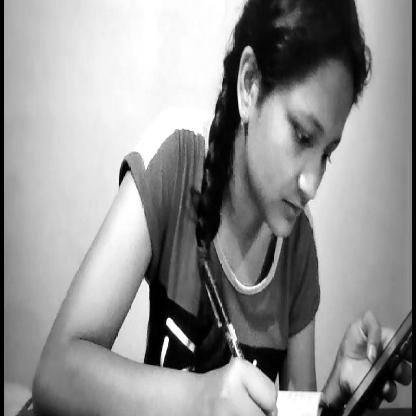Distracted: (216, 0, 361, 245)
